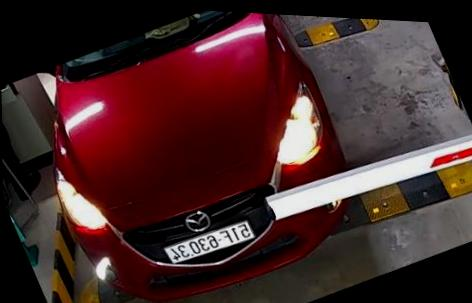License_Plate: (164, 213, 260, 274)
